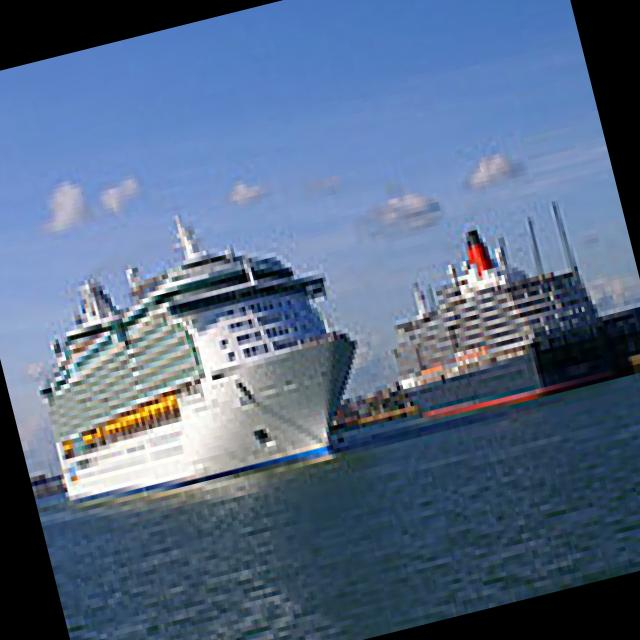boat: (20, 248, 370, 534), (374, 215, 640, 437)
